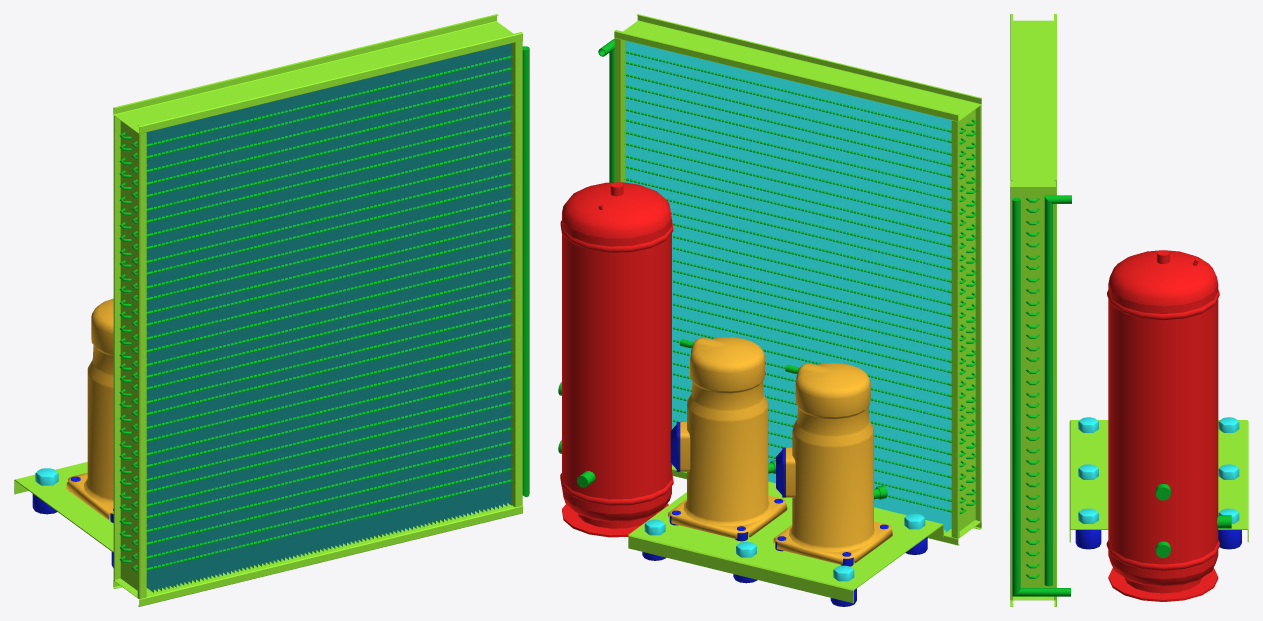
File: kompressoLOW.FBX
The picture shows the model from 3 angles, left to right: view 1: azimuth 30°, elevation 25°; view 2: azimuth 150°, elevation 25°; view 3: azimuth 270°, elevation 25°; orthographic projection. The views are drawn at different scales.
Parts seen in each view (by area): view 1: kompressoLOW; view 2: kompressoLOW; view 3: kompressoLOW.
Boxes of the visible parts, bbox=[...] form: kompressoLOW: bbox=[14, 14, 529, 606]; kompressoLOW: bbox=[558, 14, 981, 606]; kompressoLOW: bbox=[1010, 14, 1248, 606].
Bounding box in the file's own units: 900 × 1052 × 533.
